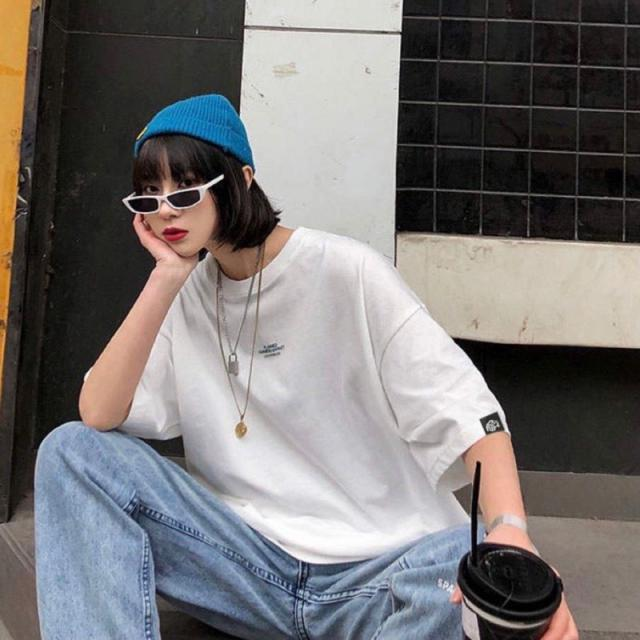Shirt: (81, 226, 516, 568)
